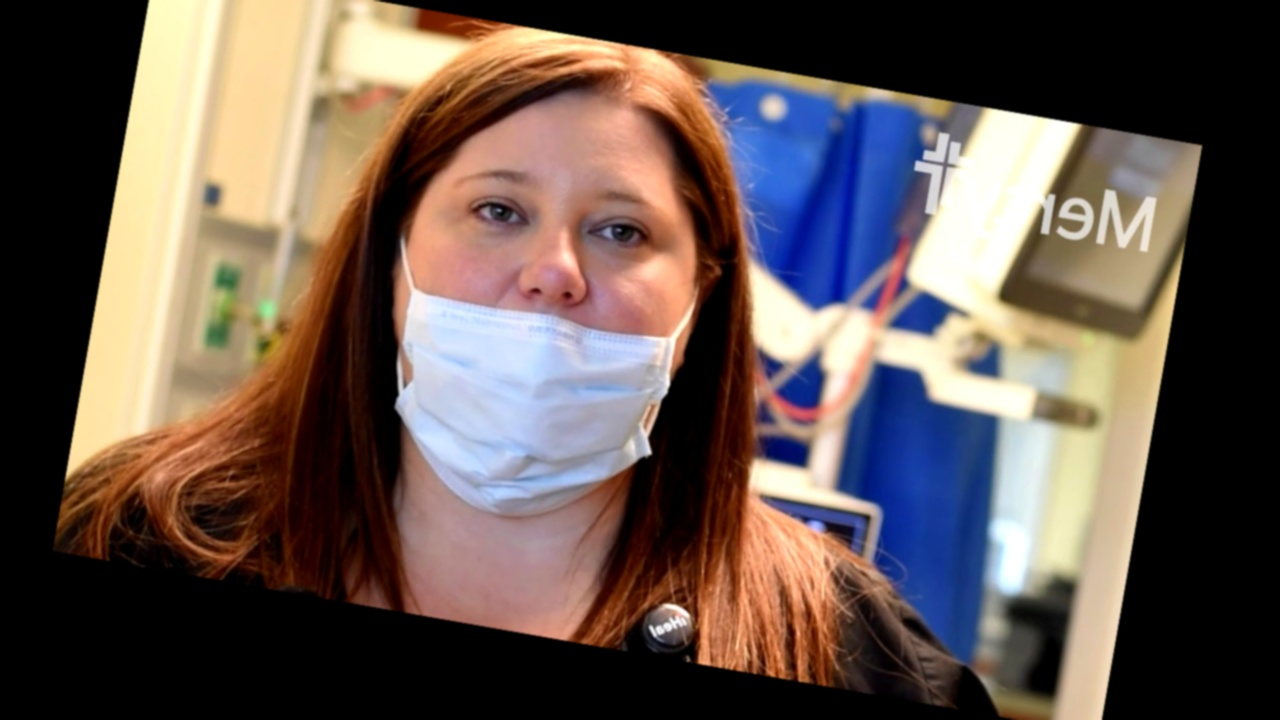mask_weared_incorrect: (370, 63, 707, 497)
